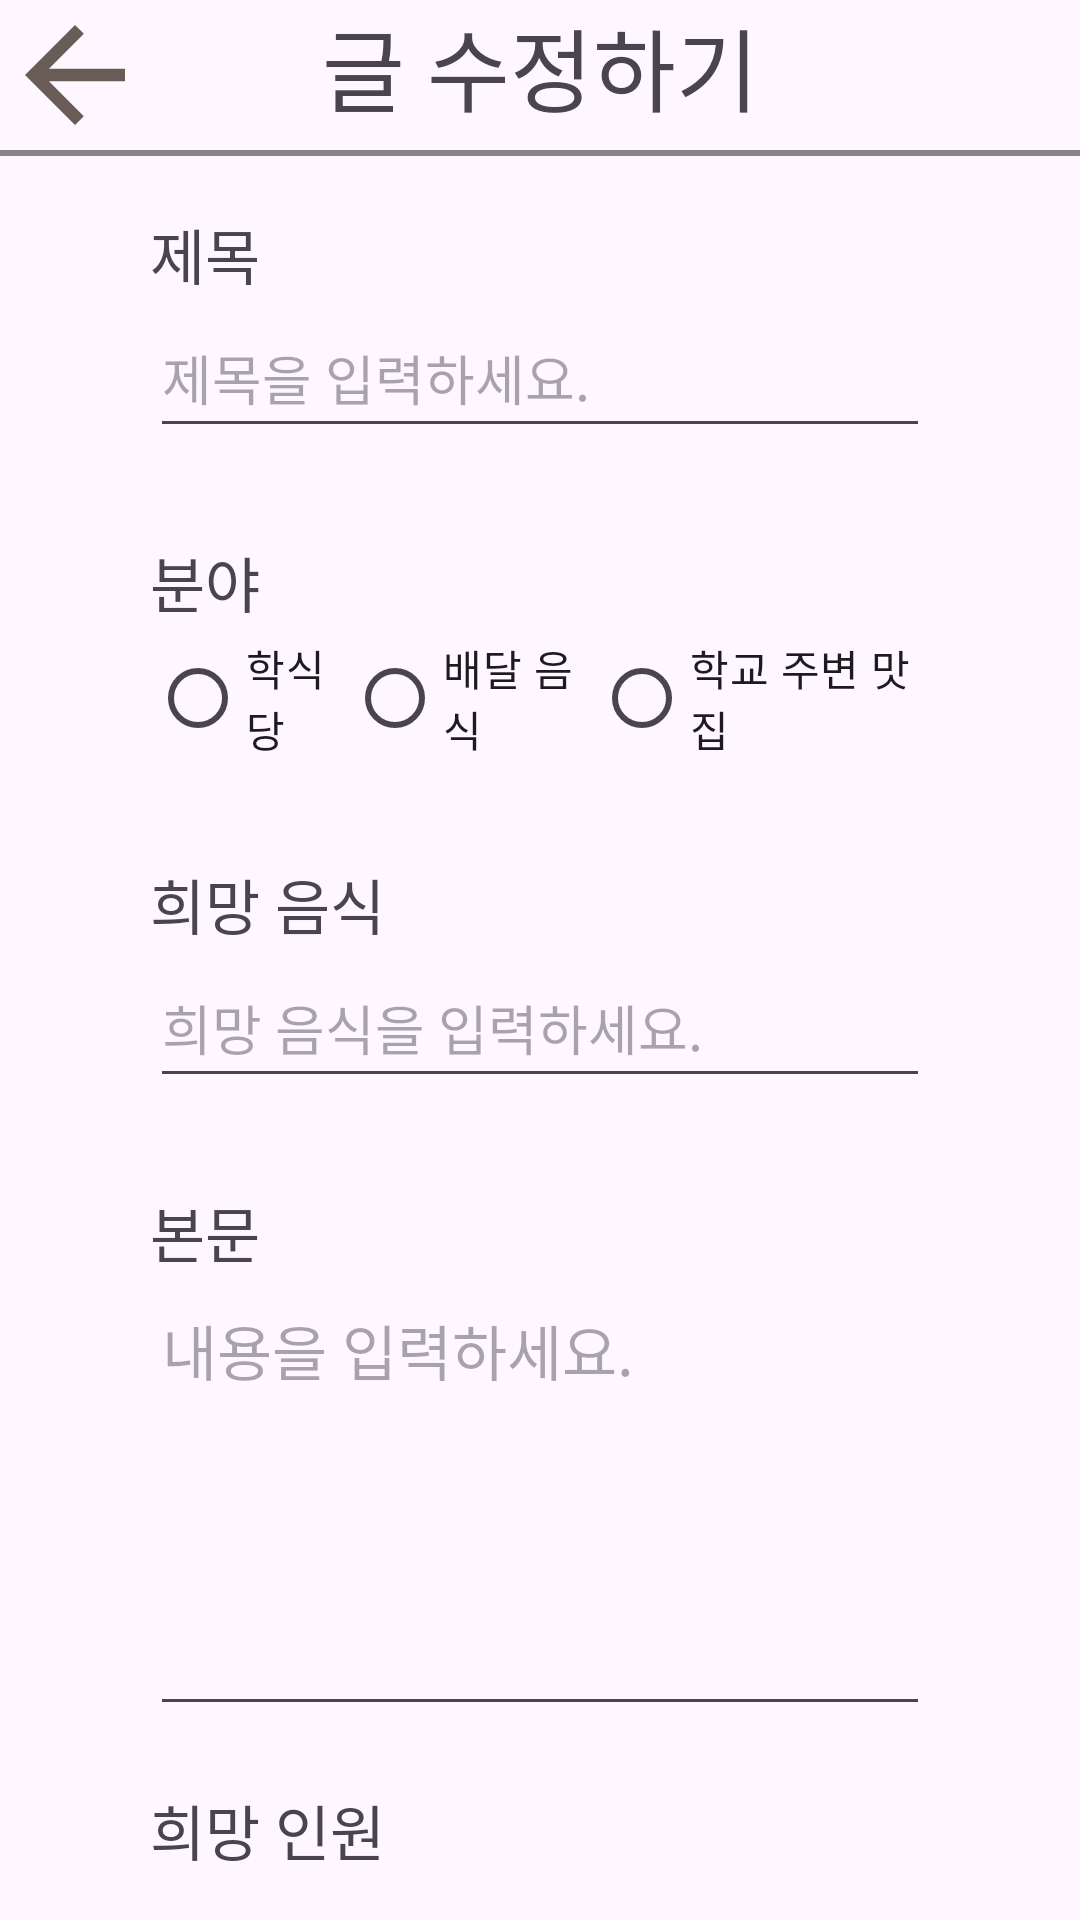

Screen size 1080 × 1920. Icon name, then its center in pixels as point (x, y):
arrow back: point (75, 75)
